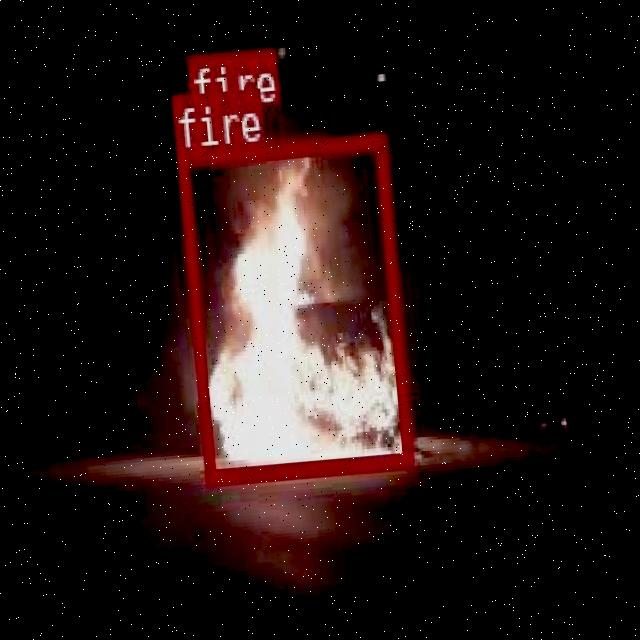fire: (174, 131, 410, 482), (186, 48, 260, 121)
